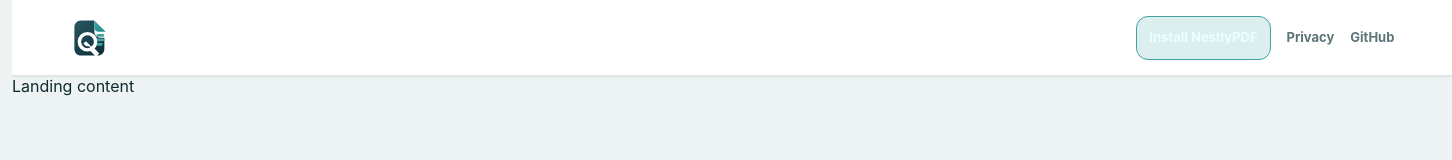
Test case: Shell PWA presentation › uses the saved Chromium prompt and hides installation after acceptance
Click the button "Install NestlyPDF".
click(1204, 38)  # box [1136, 16, 1271, 60]
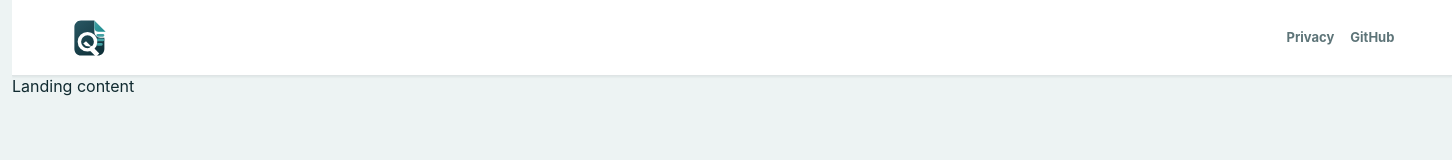
Expected: the text "Landing content" is shown, [12, 76, 134, 96]
Expected: the button "Install NestlyPDF" is gone
